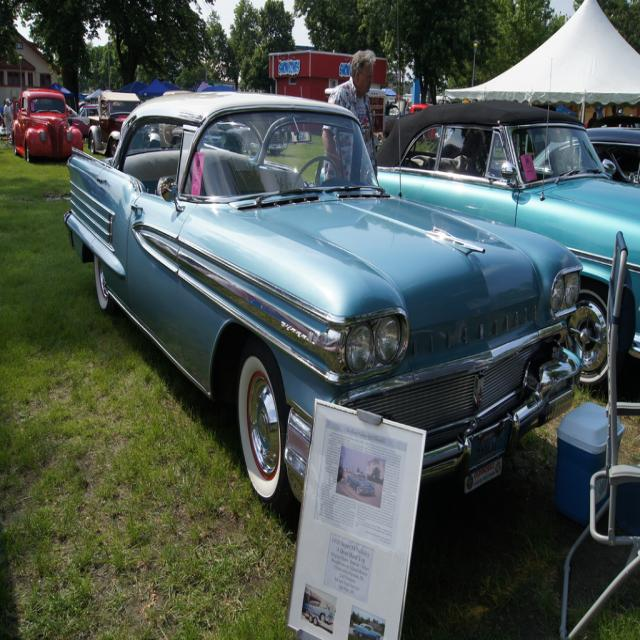car: (10, 85, 84, 169)
